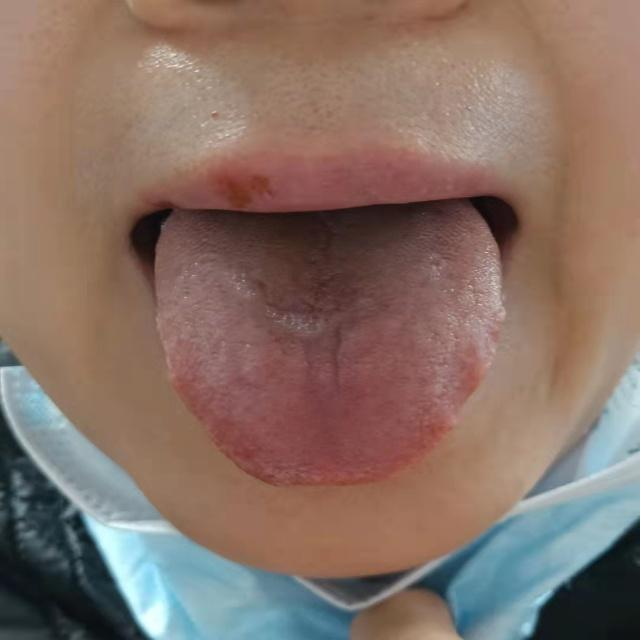baitaishe: (155, 209, 505, 487)
liewenshe: (249, 223, 348, 392)
